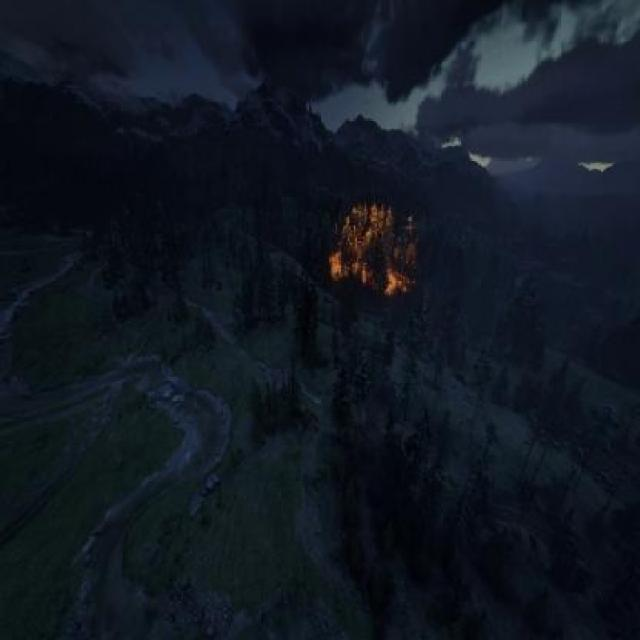Fire: (313, 188, 422, 314)
